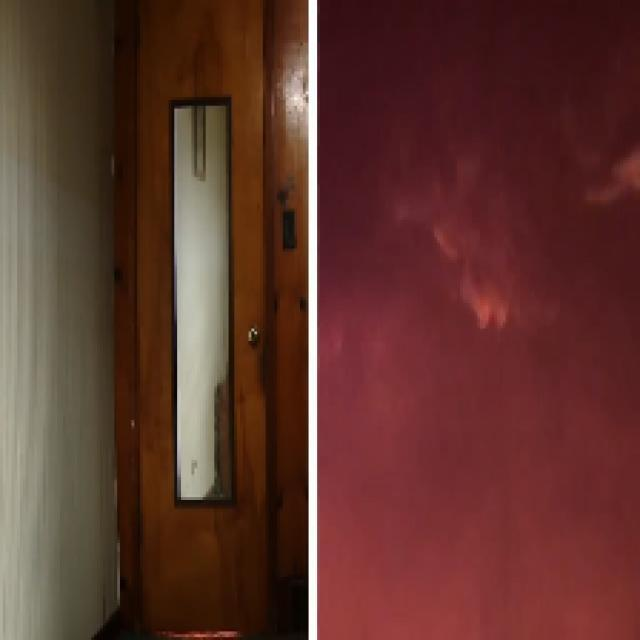Smoke: (343, 54, 620, 563)
